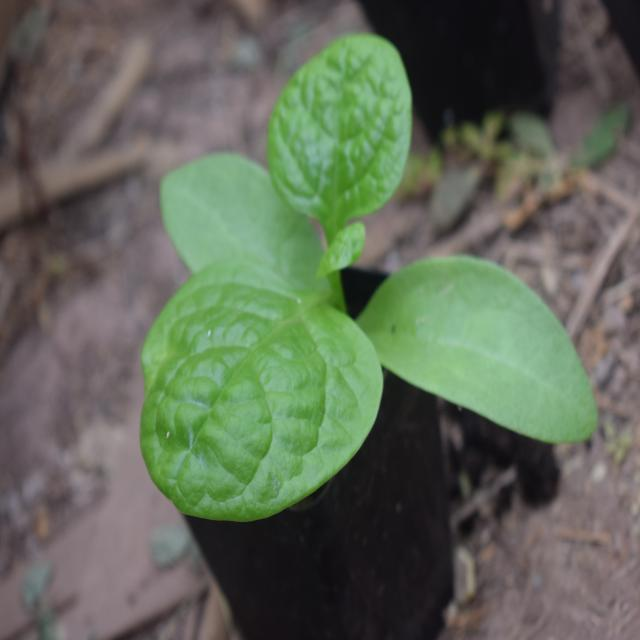Ceylon spinach: (95, 110, 599, 496)
